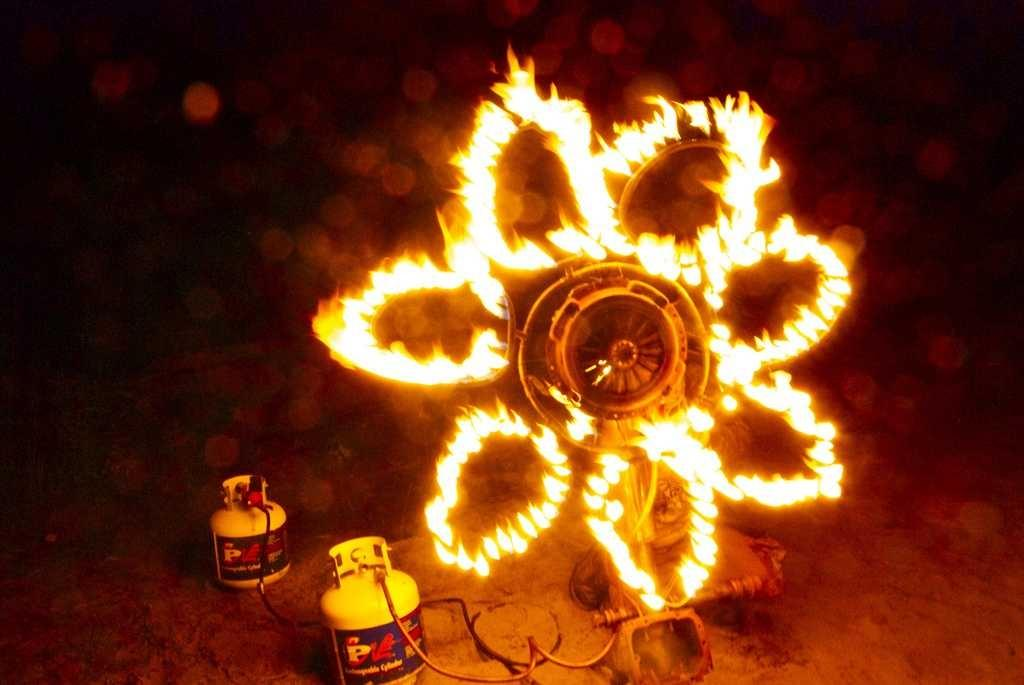fire: (720, 110, 765, 208), (580, 132, 615, 247), (488, 68, 535, 142), (452, 230, 507, 280), (327, 310, 373, 368), (700, 223, 765, 263), (652, 423, 702, 460)
